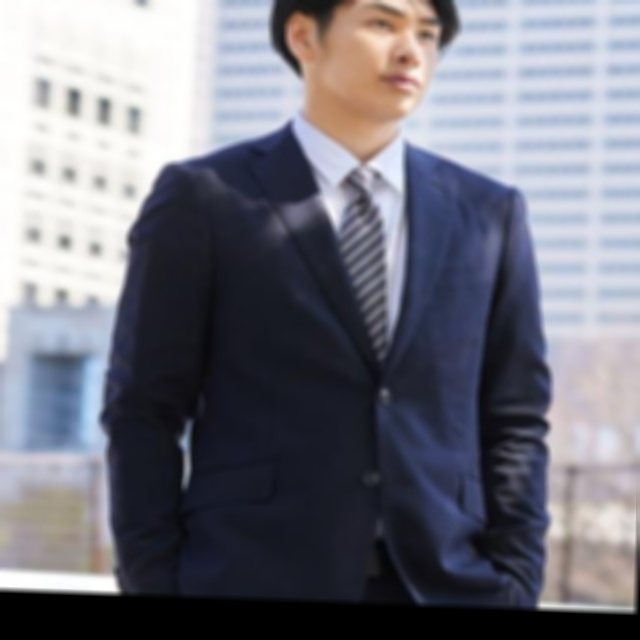Sin_Casco_Mascarrilla: (263, 0, 467, 118)
Sin_Chaleco: (133, 125, 557, 607)
